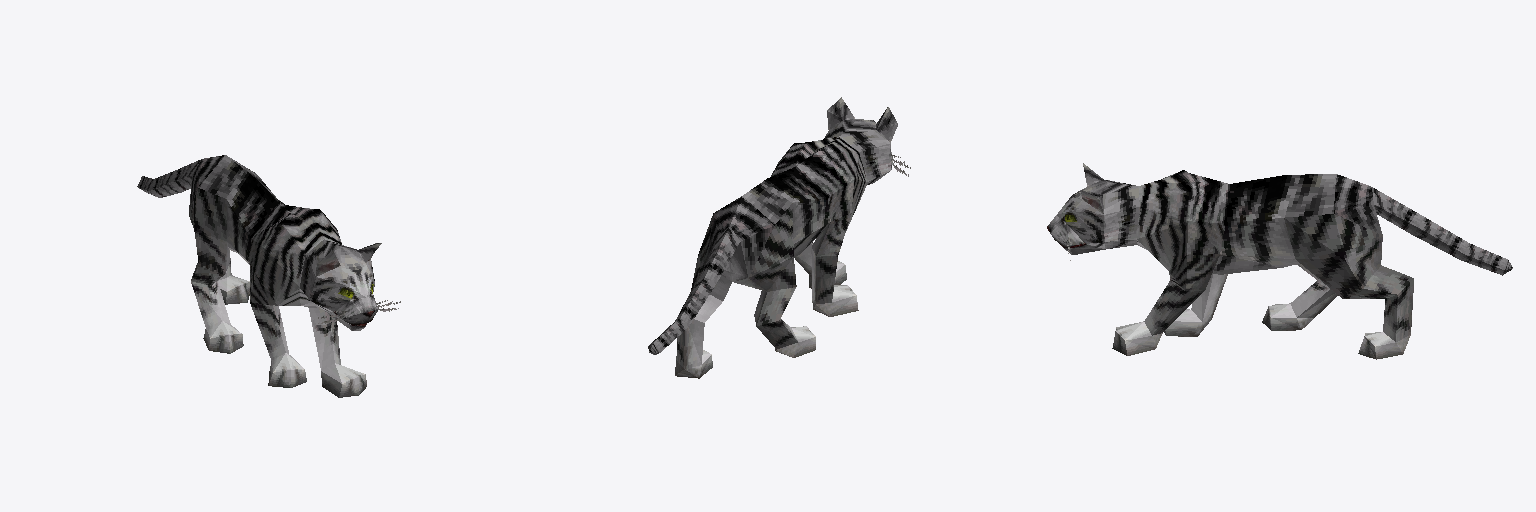
3 views of the same model, side by side, from view 1: azimuth 30°, elevation 25°; view 2: azimuth 150°, elevation 25°; view 3: azimuth 270°, elevation 25° (orthographic).
Parts seen in each view (by area): view 1: 0_creature/cat/cat.m2_Geoset_000; view 2: 0_creature/cat/cat.m2_Geoset_000; view 3: 0_creature/cat/cat.m2_Geoset_000.
Boxes of the visible parts, x1=… form: 0_creature/cat/cat.m2_Geoset_000: x1=137, y1=155, x2=400, y2=397; 0_creature/cat/cat.m2_Geoset_000: x1=648, y1=97, x2=910, y2=378; 0_creature/cat/cat.m2_Geoset_000: x1=1047, y1=163, x2=1512, y2=359.
Size of the model in its own units: 0.1715 by 0.2721 by 0.6942.
1 materials, 1 textured.